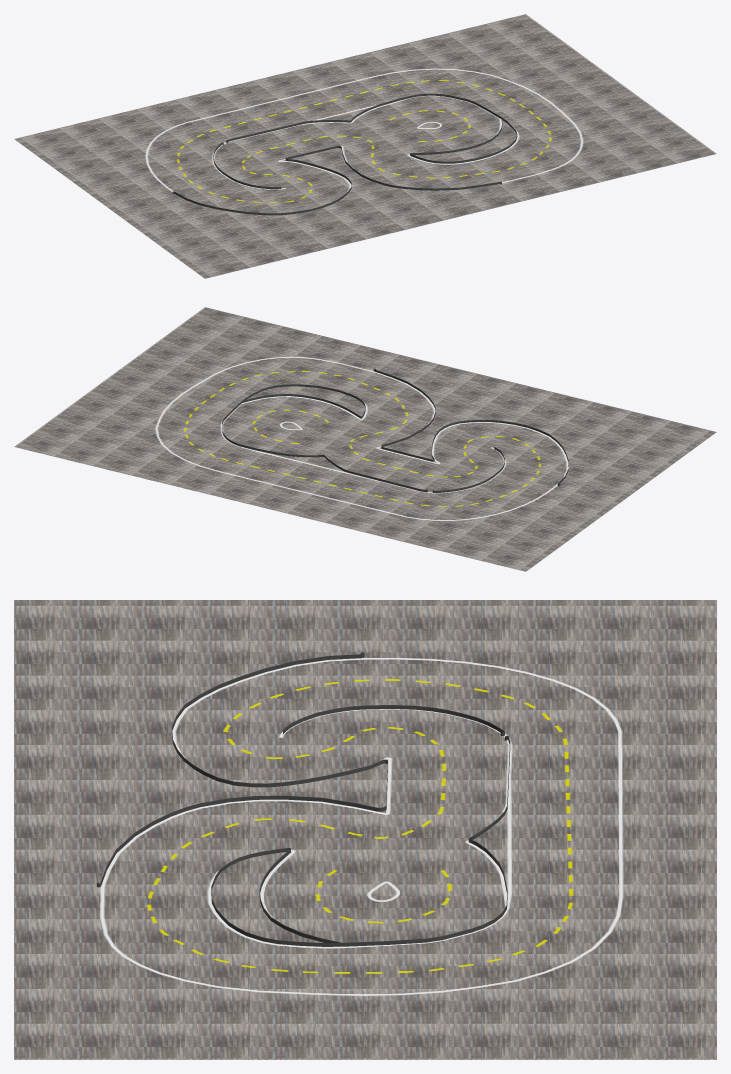
The model's file is CircuitLaunch.fbx.
3 renders of one model, top to bottom at view 1: azimuth 30°, elevation 25°; view 2: azimuth 150°, elevation 25°; view 3: azimuth 270°, elevation 25°, orthographic. The views are drawn at different scales.
Visible parts, largest first — view 1: CircuitLaunchCarpet, CircuitLaunchRoad, CircuitLaunchPlasticWall; view 2: CircuitLaunchCarpet, CircuitLaunchRoad, CircuitLaunchPlasticWall; view 3: CircuitLaunchCarpet, CircuitLaunchRoad, CircuitLaunchPlasticWall.
Boxes of the visible parts, x1=… form: CircuitLaunchCarpet: x1=14, y1=14, x2=716, y2=278; CircuitLaunchRoad: x1=145, y1=68, x2=583, y2=213; CircuitLaunchPlasticWall: x1=172, y1=93, x2=517, y2=215; CircuitLaunchCarpet: x1=14, y1=307, x2=716, y2=571; CircuitLaunchRoad: x1=155, y1=356, x2=568, y2=520; CircuitLaunchPlasticWall: x1=222, y1=368, x2=568, y2=492; CircuitLaunchCarpet: x1=14, y1=600, x2=716, y2=1059; CircuitLaunchRoad: x1=100, y1=658, x2=623, y2=995; CircuitLaunchPlasticWall: x1=97, y1=652, x2=510, y2=946.
Bounding box in the file's own units: 1753 × 7.09 × 1133.
Materials: 2 (1 with a texture image).
